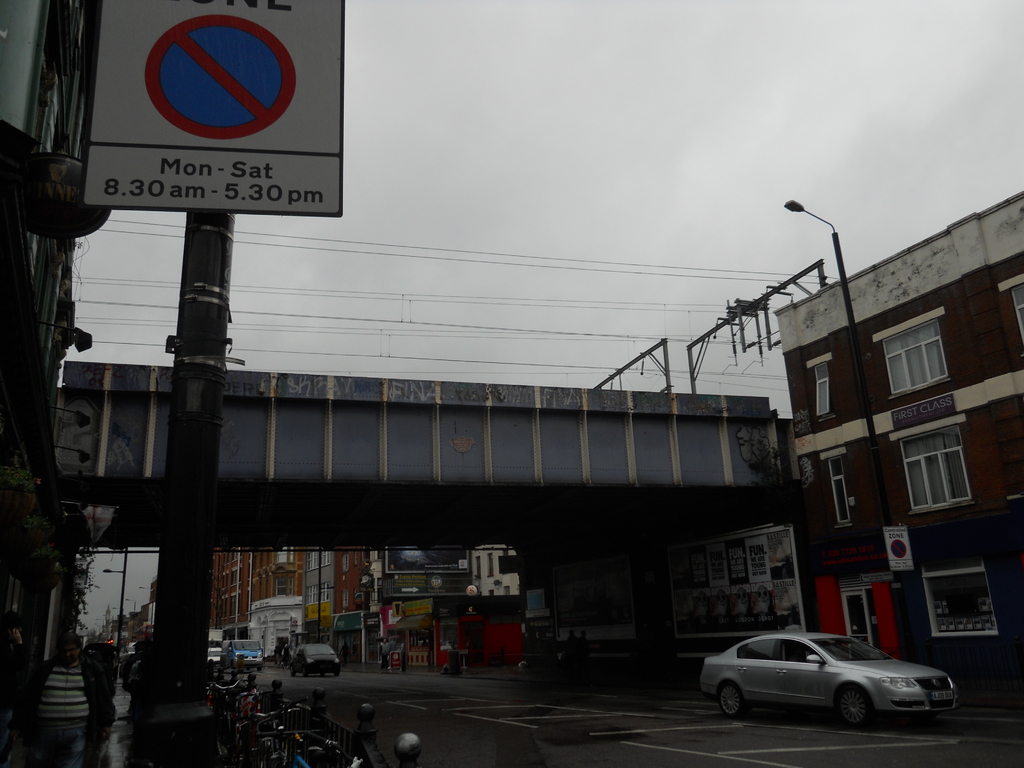mobil: (704, 627, 960, 724)
